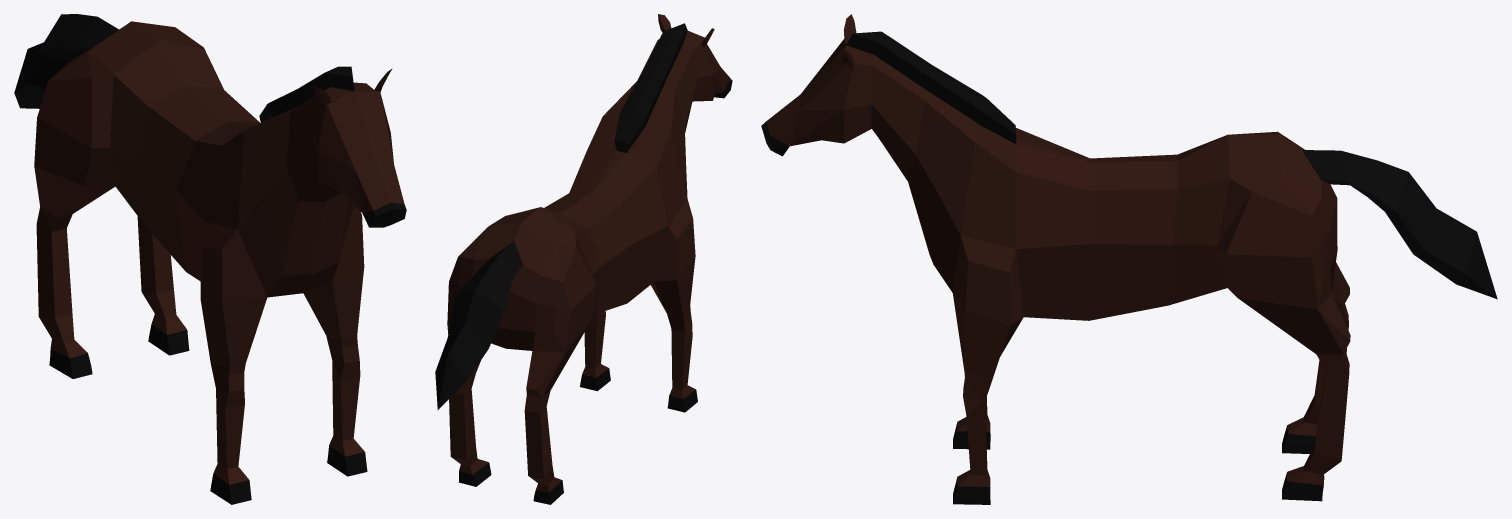
The model's file is Horse_000001.obj.
3 views of the same model, side by side, from view 1: azimuth 30°, elevation 25°; view 2: azimuth 150°, elevation 25°; view 3: azimuth 270°, elevation 25° (orthographic). The views are drawn at different scales.
Parts seen in each view (by area): view 1: Horse_Cylinder; view 2: Horse_Cylinder; view 3: Horse_Cylinder.
Boxes of the visible parts, <box> form: Horse_Cylinder: <box>14,14,406,504</box>; Horse_Cylinder: <box>435,14,732,504</box>; Horse_Cylinder: <box>761,14,1497,504</box>.
Bounding box in the file's own units: 2.56 × 6.9 × 10.45.
